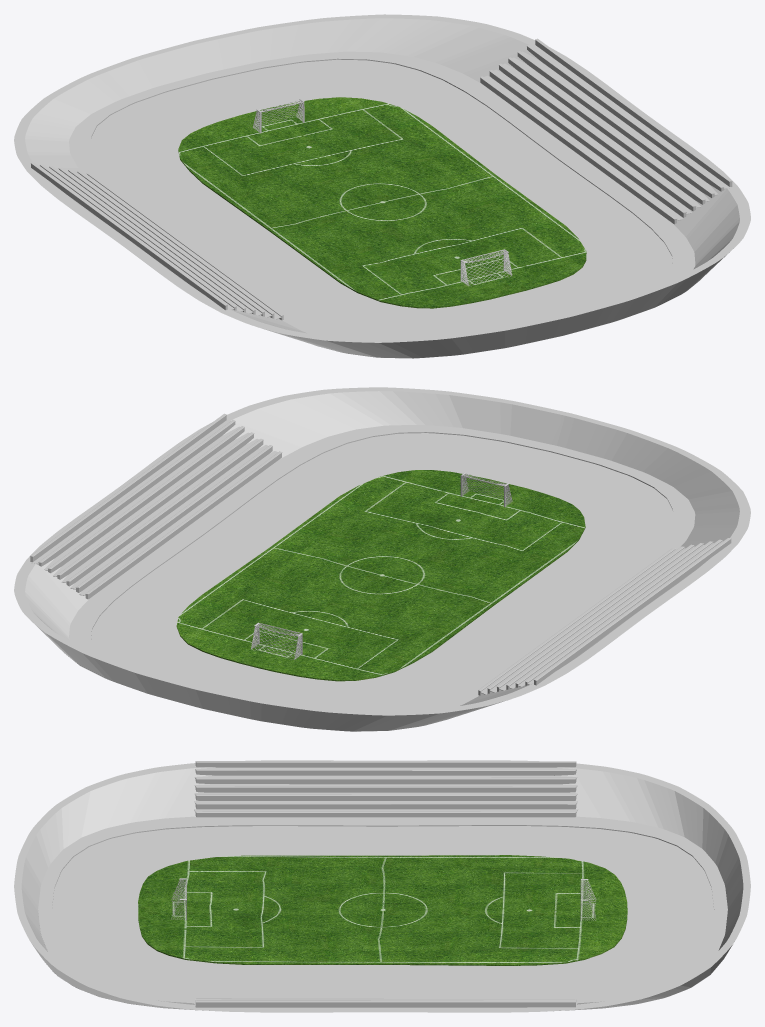
The model's file is Cancha.fbx.
The picture shows the model from 3 angles, top to bottom: view 1: azimuth 30°, elevation 25°; view 2: azimuth 150°, elevation 25°; view 3: azimuth 270°, elevation 25°; orthographic projection. The views are drawn at different scales.
Visible parts, largest first — view 1: Pista, Grama, Alrededor gradas, Borde pista, Plane.001, Plane, Plane.003, Plane.002, Cube.003, Cube.001; view 2: Pista, Grama, Alrededor gradas, Borde pista, Plane.001, Plane, Plane.003, Plane.002, Cube.001, Cube.003; view 3: Pista, Grama, Alrededor gradas, Plane, Borde pista, Plane.002, Plane.001, Cube.001, Cube.003.
Part boxes in pixels (bbox=[...]): Pista: bbox=[91, 59, 672, 338]; Grama: bbox=[178, 97, 586, 308]; Alrededor gradas: bbox=[14, 14, 750, 358]; Borde pista: bbox=[69, 51, 695, 338]; Plane.001: bbox=[480, 38, 732, 224]; Plane: bbox=[30, 162, 283, 320]; Plane.003: bbox=[484, 44, 731, 220]; Plane.002: bbox=[39, 166, 281, 319]; Cube.003: bbox=[461, 250, 512, 286]; Cube.001: bbox=[253, 100, 303, 131]; Pista: bbox=[91, 433, 672, 711]; Grama: bbox=[176, 470, 585, 681]; Alrededor gradas: bbox=[14, 387, 750, 731]; Borde pista: bbox=[69, 425, 695, 710]; Plane.001: bbox=[30, 413, 282, 599]; Plane: bbox=[478, 538, 731, 695]; Plane.003: bbox=[31, 419, 277, 595]; Plane.002: bbox=[480, 541, 722, 694]; Cube.001: bbox=[251, 623, 301, 659]; Cube.003: bbox=[462, 473, 512, 505]; Pista: bbox=[52, 826, 713, 994]; Grama: bbox=[138, 855, 627, 965]; Alrededor gradas: bbox=[14, 760, 750, 1012]; Plane: bbox=[195, 761, 576, 817]; Borde pista: bbox=[38, 816, 727, 1003]; Plane.002: bbox=[194, 767, 577, 812]; Plane.001: bbox=[195, 998, 576, 1007]; Cube.001: bbox=[581, 880, 596, 920]; Cube.003: bbox=[171, 879, 186, 919].
Bounding box in the file's own units: 7202 × 413 × 8886.
